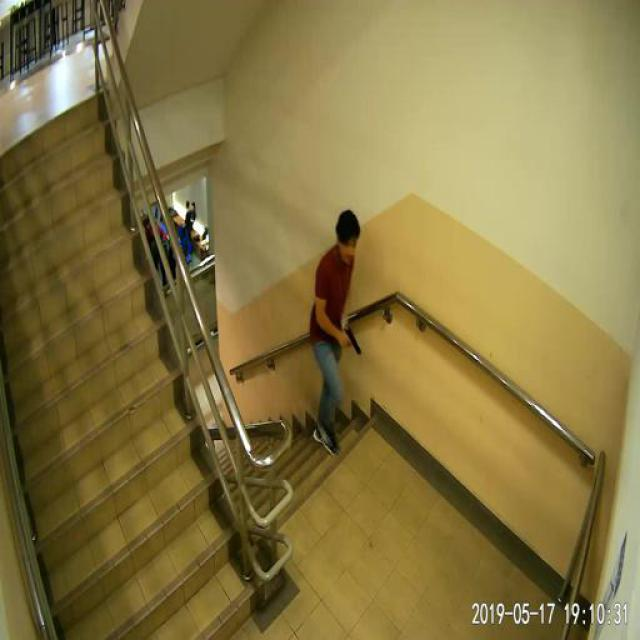Gun: (340, 323, 360, 352)
